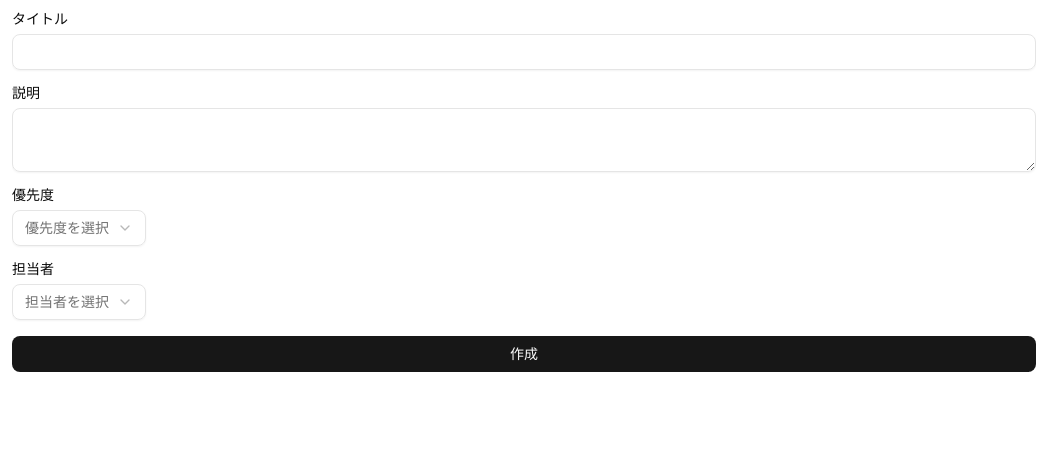
it: TicketCreateForm › フィールド以外のサーバーエラーをフォーム全体に表示する
Type "New ticket" into the field labelled "タイトル" at point(524, 52), box 12,34 -> 1036,70
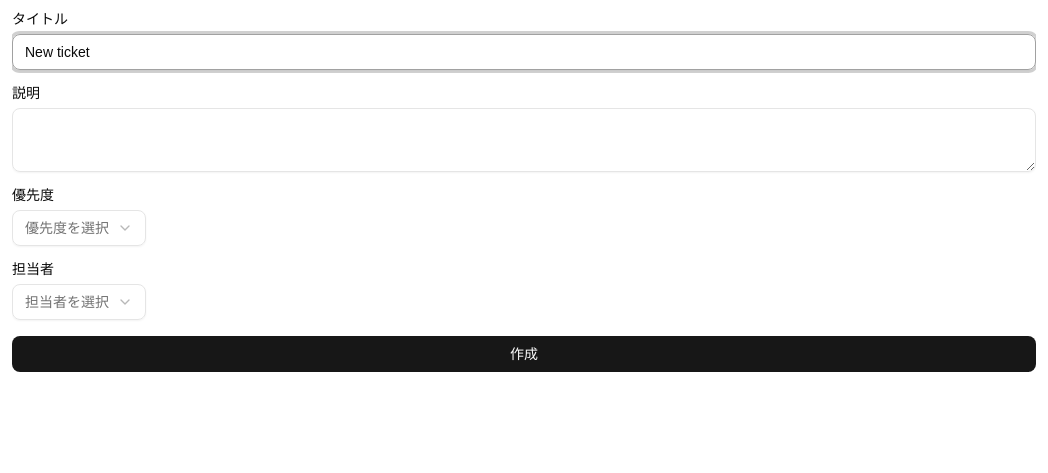
Click the button "作成" at point(524, 354), box 12,336 -> 1036,372
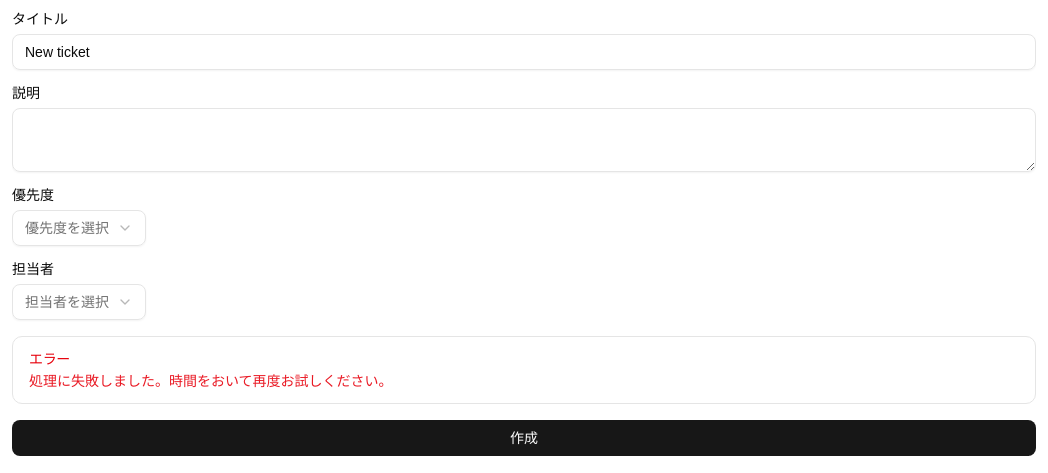
Now the text "処理に失敗しました。時間をおいて再度お試しください。" is shown, box 29,373 -> 393,389
